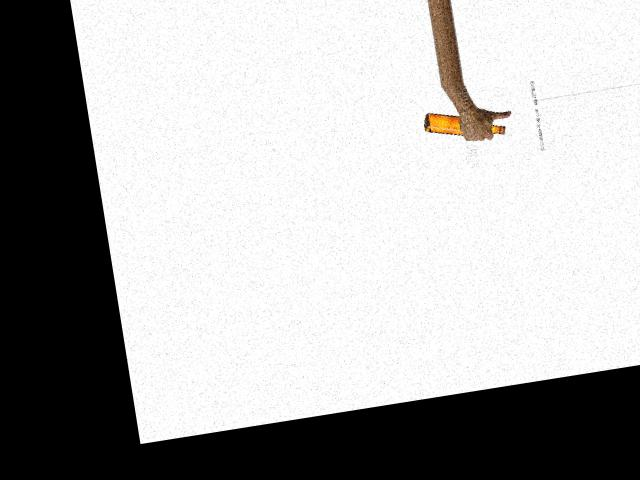beer: (422, 101, 505, 145)
